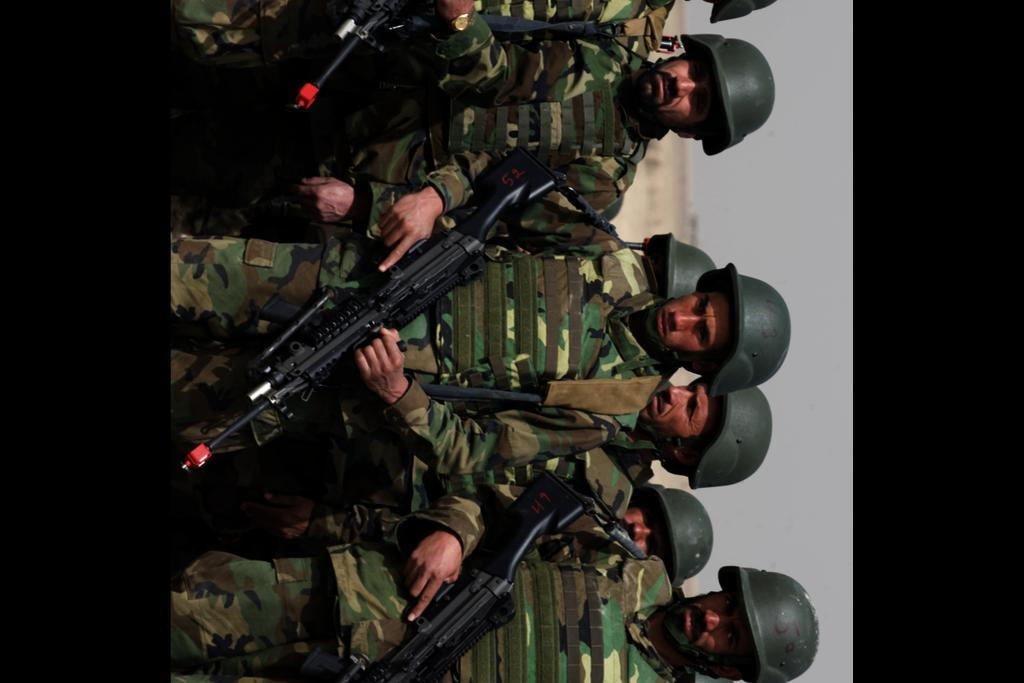gun: (182, 148, 562, 468), (214, 477, 585, 683), (296, 0, 521, 139)
